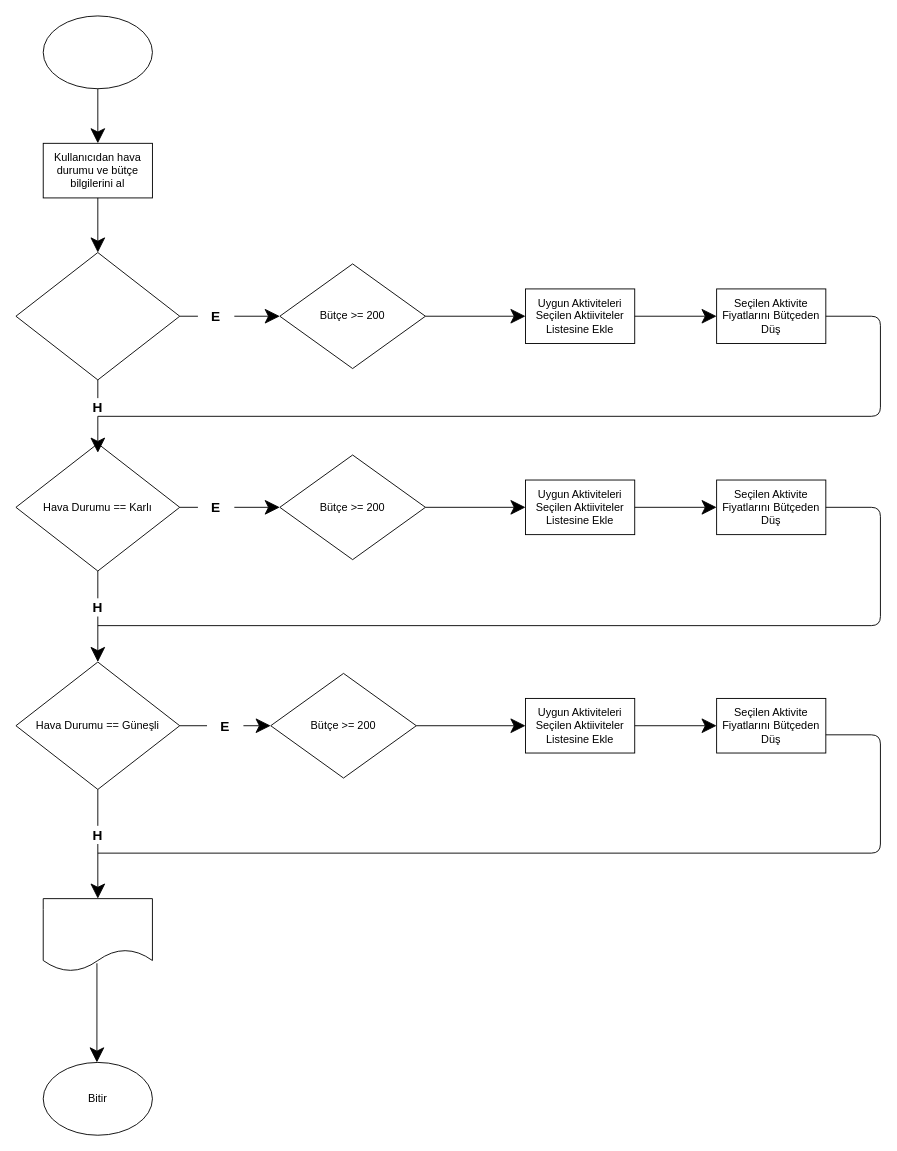
This 897x1151 diagram has some shape labels left out. The shapes that lost their labels are listed below. From the top down, each one's box as (x1, y1, x2, y2) in pixels, then its label:
(42, 15, 152, 89): Başlat
(15, 252, 180, 380): Hava Durumu == Yağmurlu
(42, 898, 152, 971): En Uygun Planları Göster
